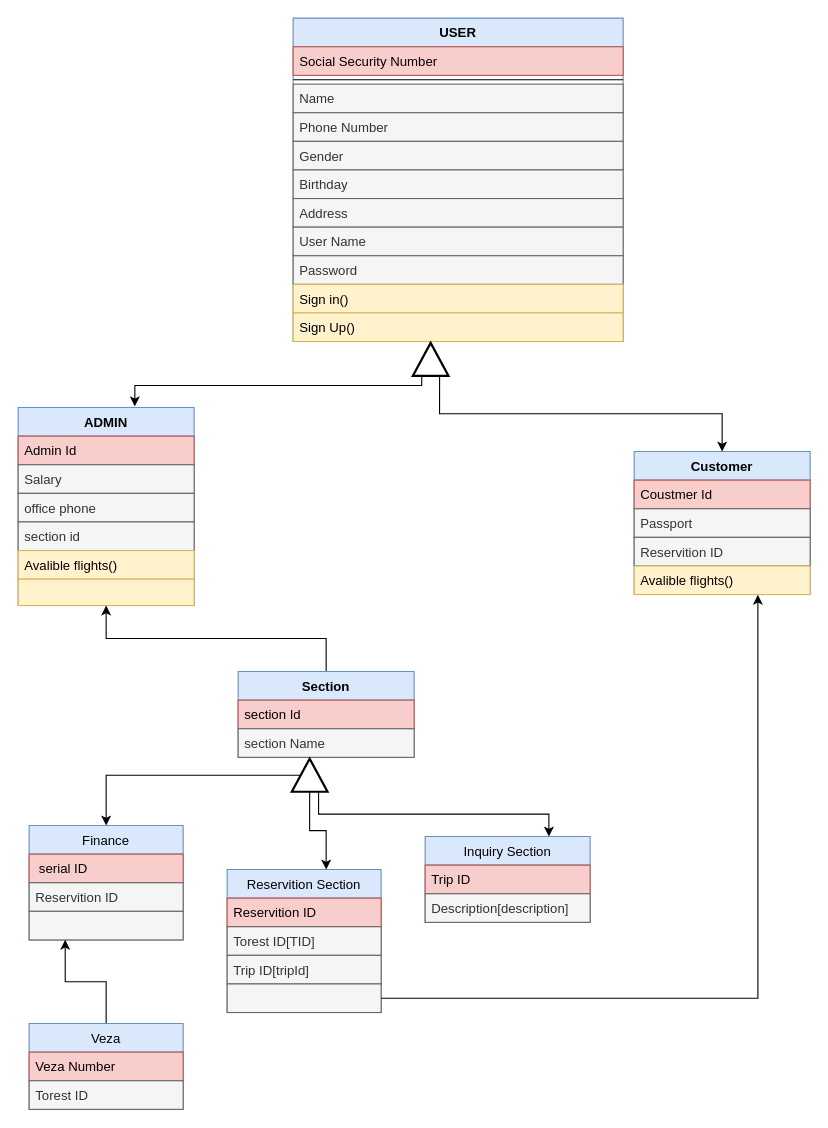
This 828x1128 diagram has some shape labels left out. The shapes that lost their labels are listed below. From the top down, each one's centre as x and y in pixels, then its label:
pixel 105 592: Booked flights()
pixel 105 925: PayMent methode
pixel 303 998: price
